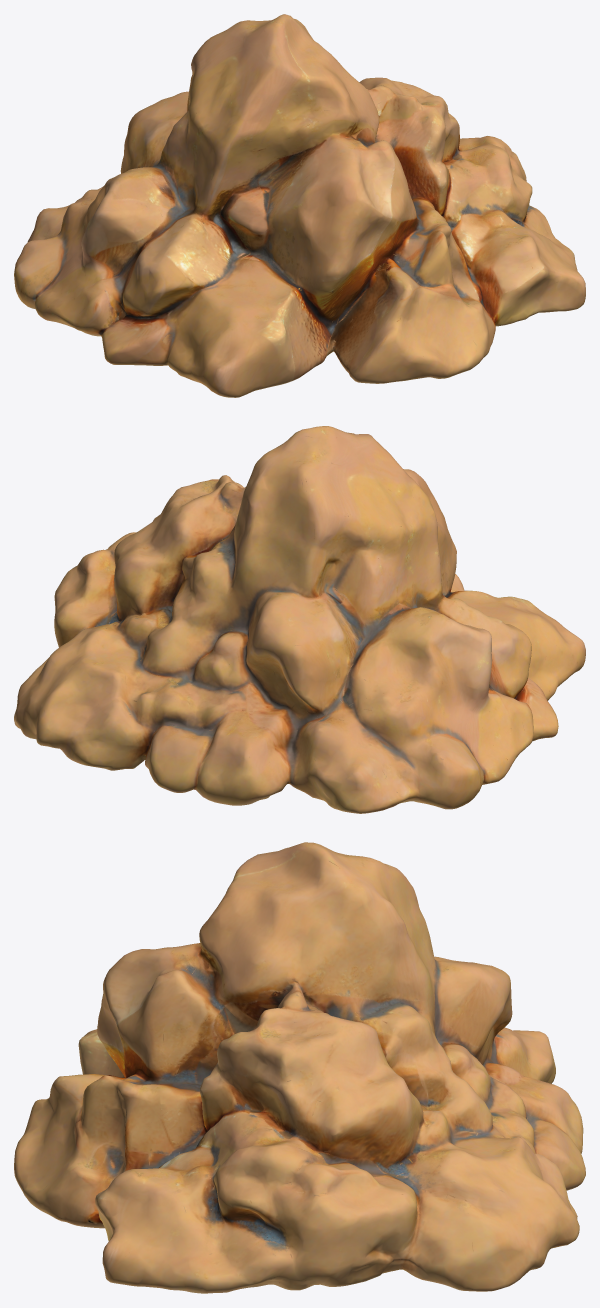
File: Copper Ore 1.fbx
The picture shows the model from 3 angles, top to bottom: view 1: azimuth 30°, elevation 25°; view 2: azimuth 150°, elevation 25°; view 3: azimuth 270°, elevation 25°; orthographic projection. The views are drawn at different scales.
Visible parts, largest first — view 1: Mesh_0; view 2: Mesh_0; view 3: Mesh_0.
Part boxes in pixels (x1=…): Mesh_0: x1=14, y1=14, x2=585, y2=397; Mesh_0: x1=14, y1=426, x2=585, y2=813; Mesh_0: x1=14, y1=842, x2=585, y2=1293.
Size of the model in its own units: 201 by 121 by 189.
Materials: 1 (1 with a texture image).
